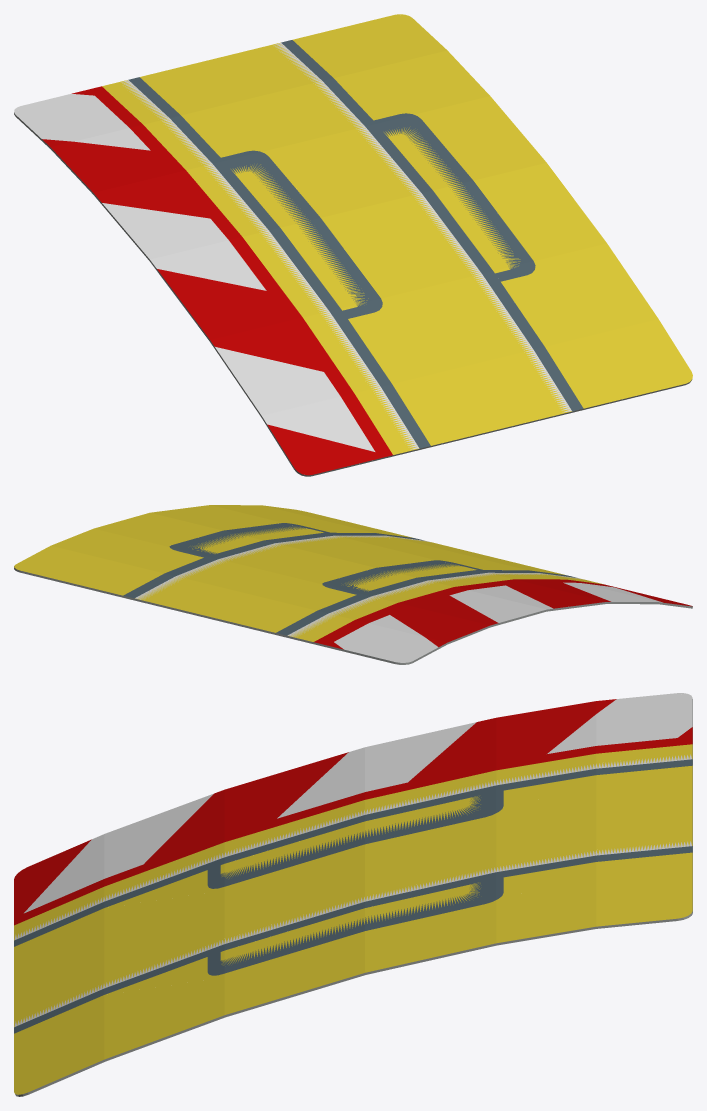
3 views of the same model, one above another, from view 1: azimuth 30°, elevation 25°; view 2: azimuth 150°, elevation 25°; view 3: azimuth 270°, elevation 25° (orthographic). The views are drawn at different scales.
Parts seen in each view (by area): view 1: world; view 2: world; view 3: world.
Boxes of the visible parts, <box> form: world: <box>14,14,692,476</box>; world: <box>14,505,692,664</box>; world: <box>14,693,692,1096</box>.
Bounding box in the file's own units: 0.021 × 0.00796 × 0.0267.
